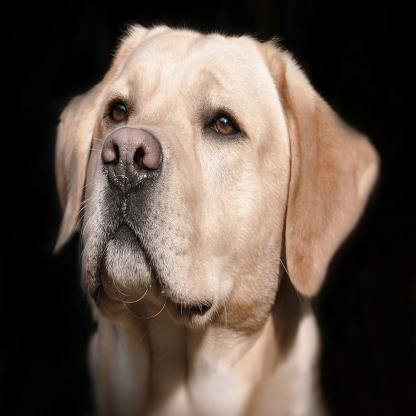dog: (48, 22, 379, 416)
